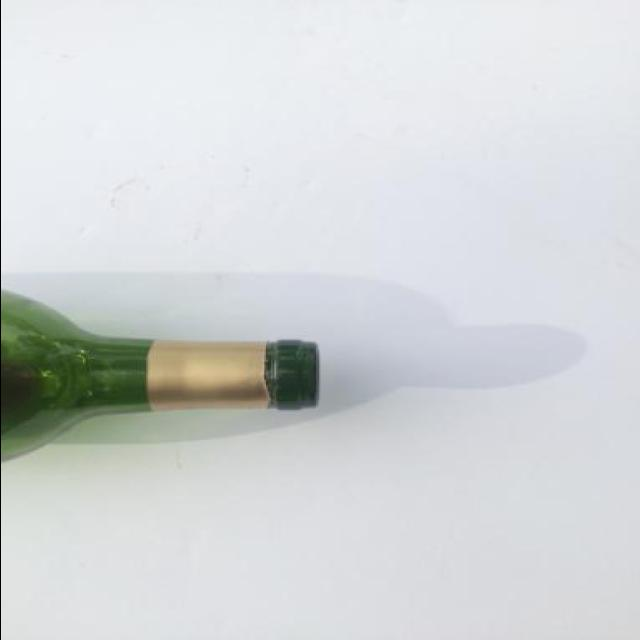Glass Bottle: (2, 285, 320, 465)
